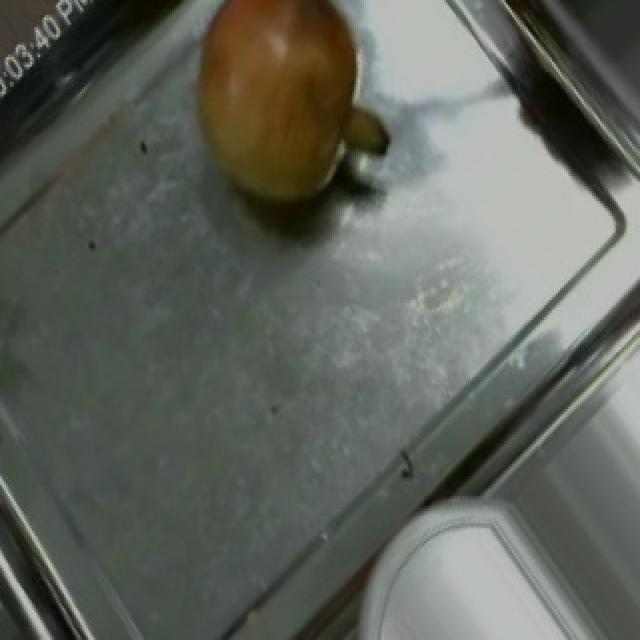fruit: (164, 0, 402, 236)
